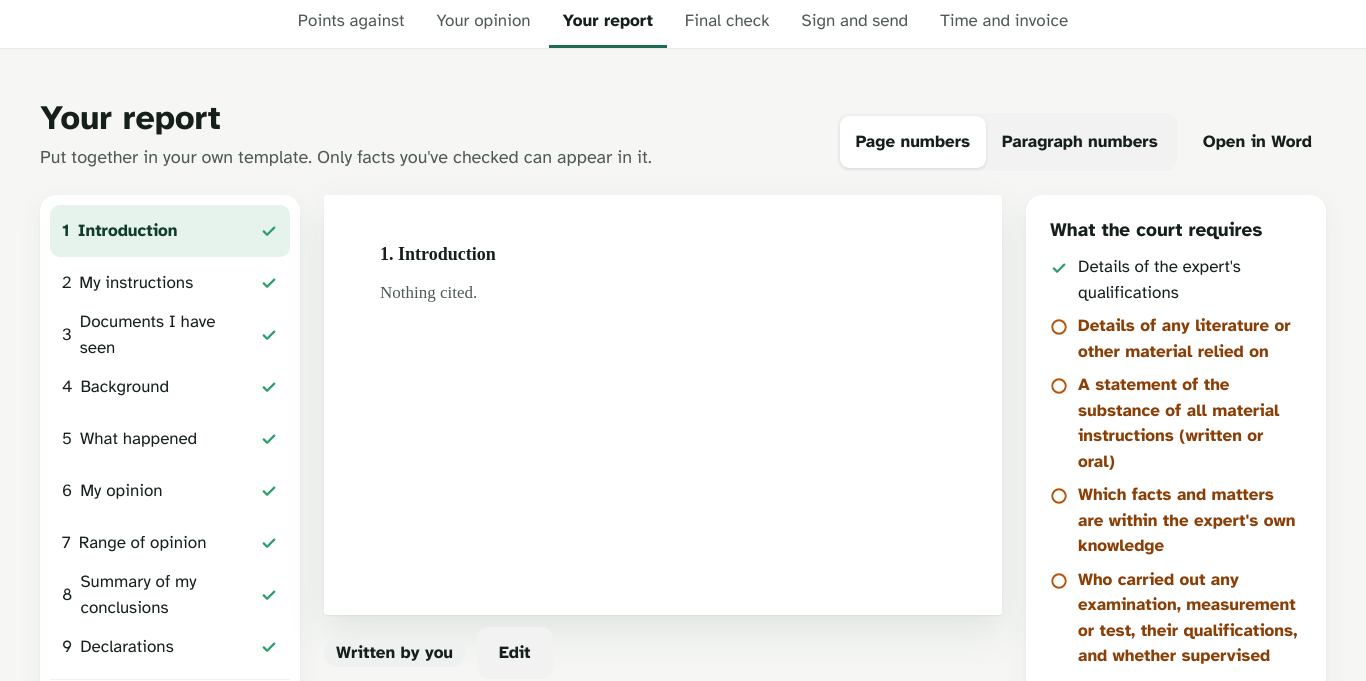
Test: you can write a section in your own words; it saves with the version you loaded
The width and height of the screenshot is (1366, 681).
Click the button "Edit".
click(515, 652)  # box left=477, top=626, right=553, bottom=678
(page scrolled)
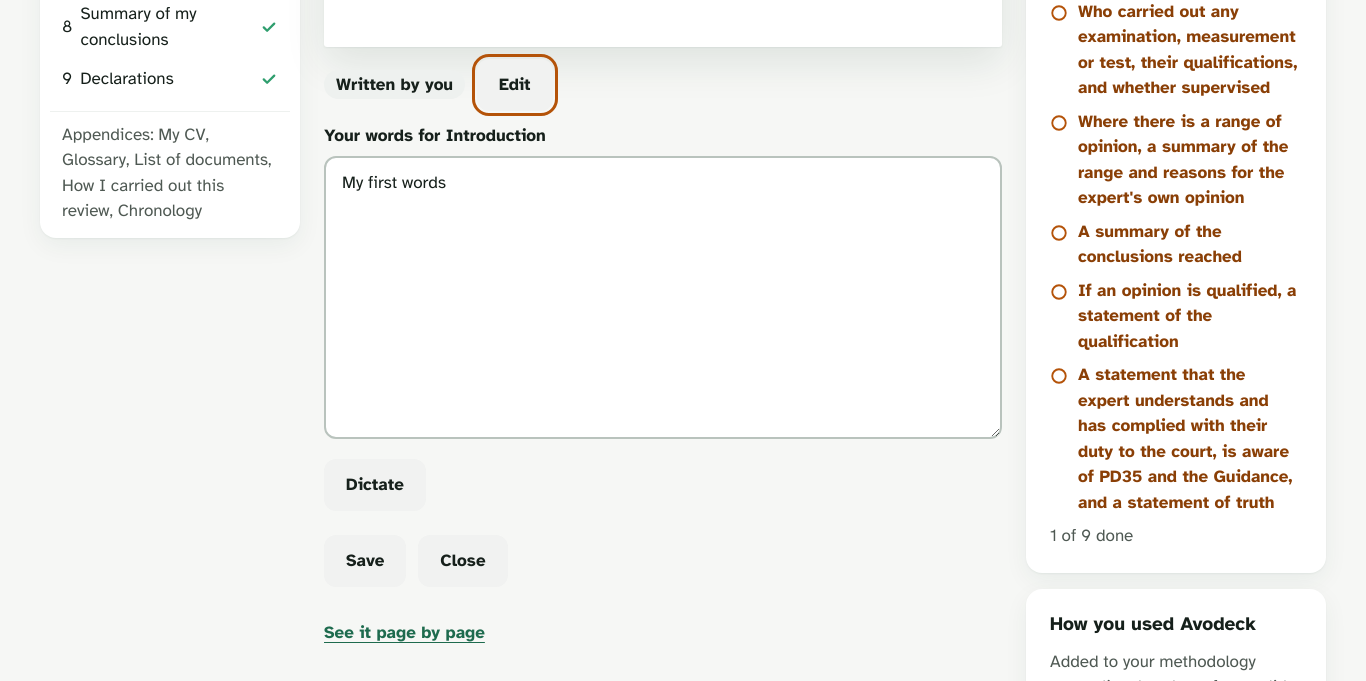
Replace the text in the text box labelled "Your words for Introduction" with "Changed words" at (663, 298), box left=324, top=156, right=1002, bottom=439
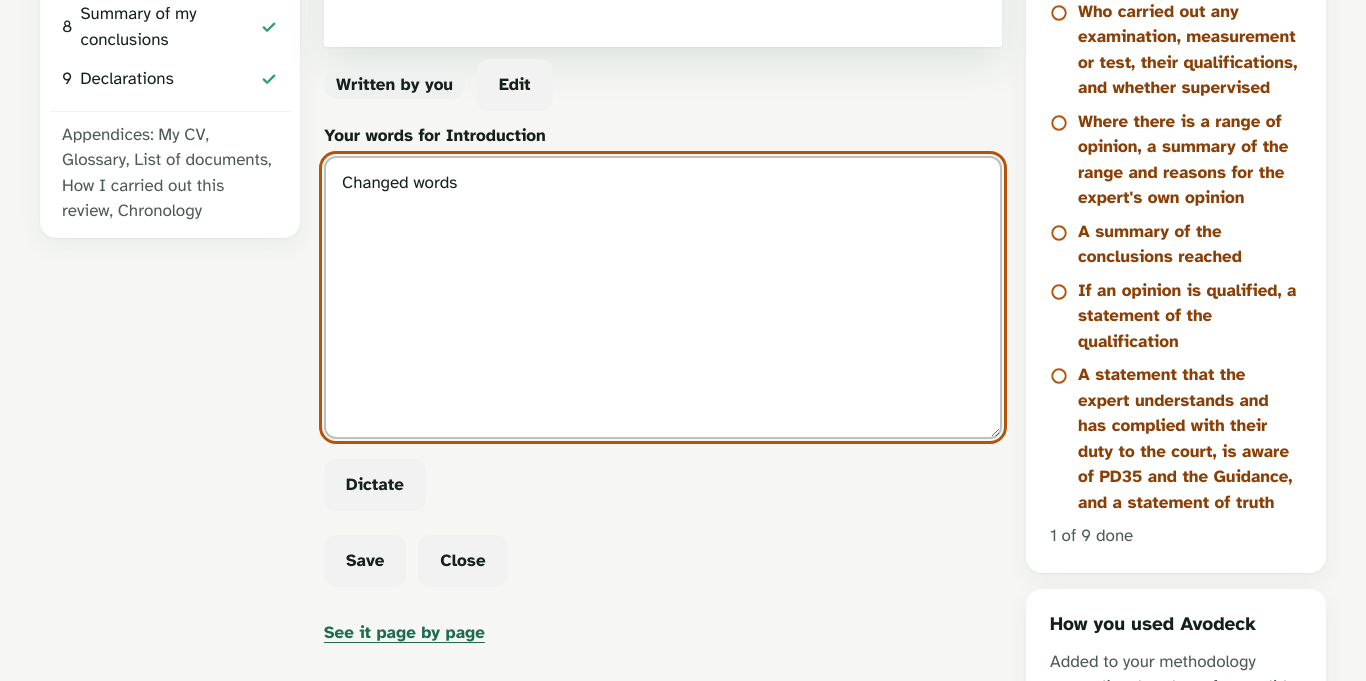
Click the button "Save".
click(365, 561)  # box left=324, top=535, right=406, bottom=587
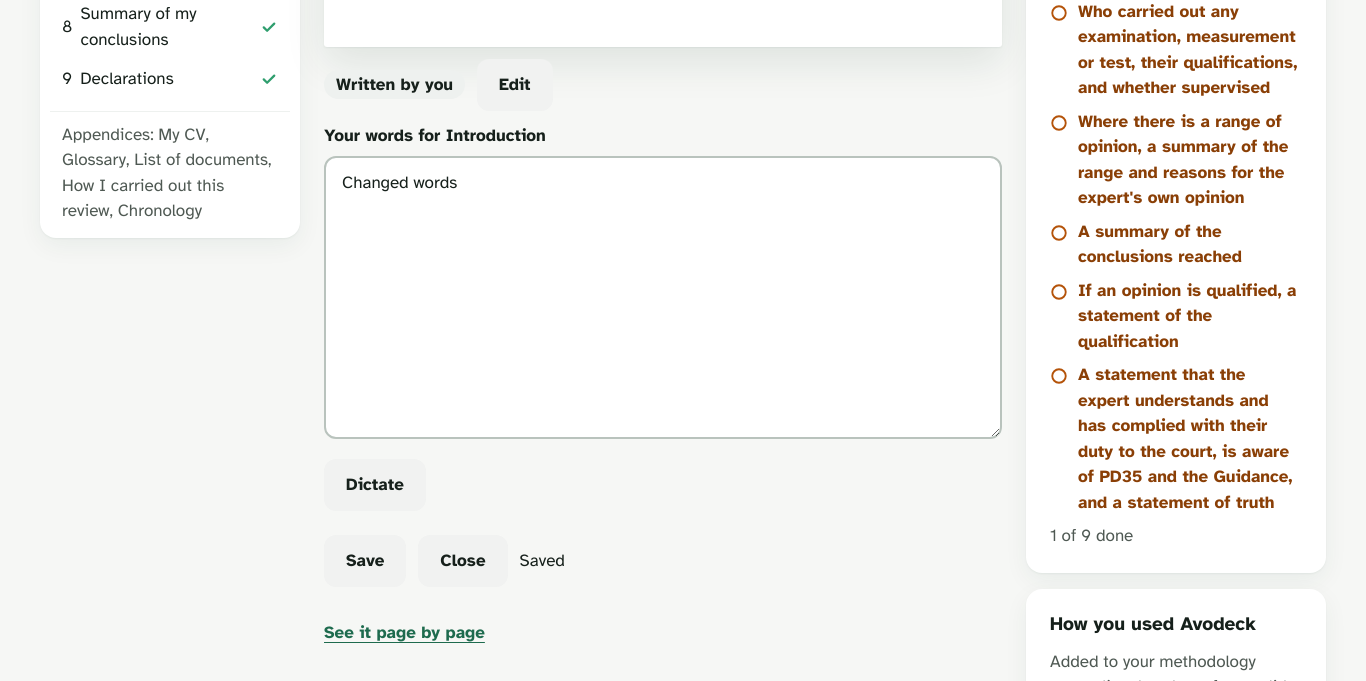
Now the text "Saved" is shown, box left=520, top=548, right=565, bottom=574
